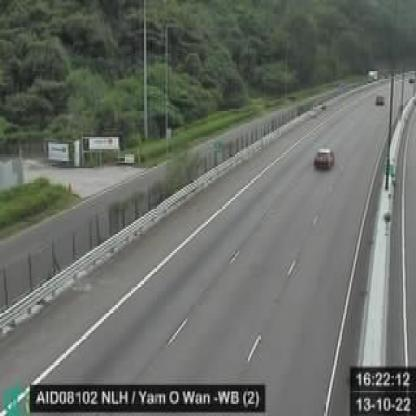Car: (313, 145, 336, 171), (374, 94, 384, 105)
